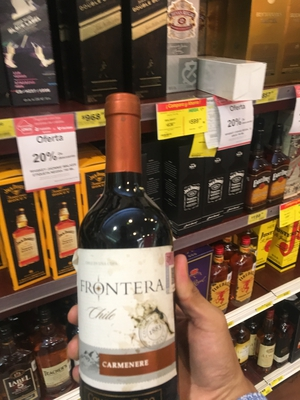frontera carmenere: (74, 99, 186, 400)
